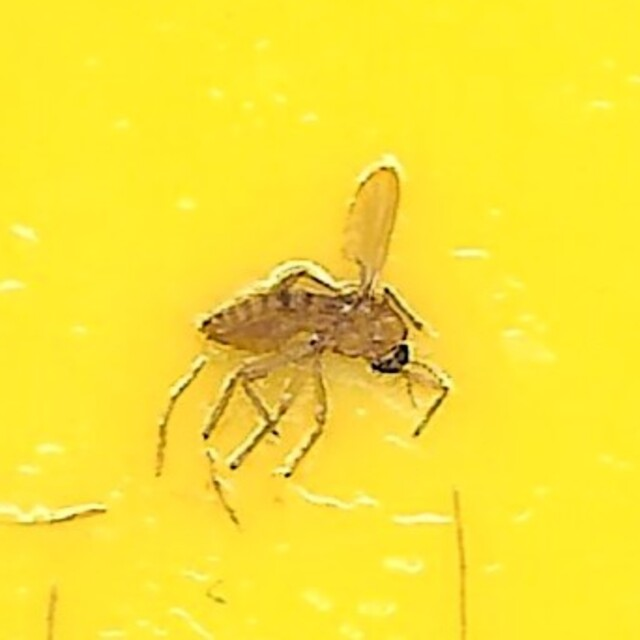Nematocera: (187, 166, 453, 474)
